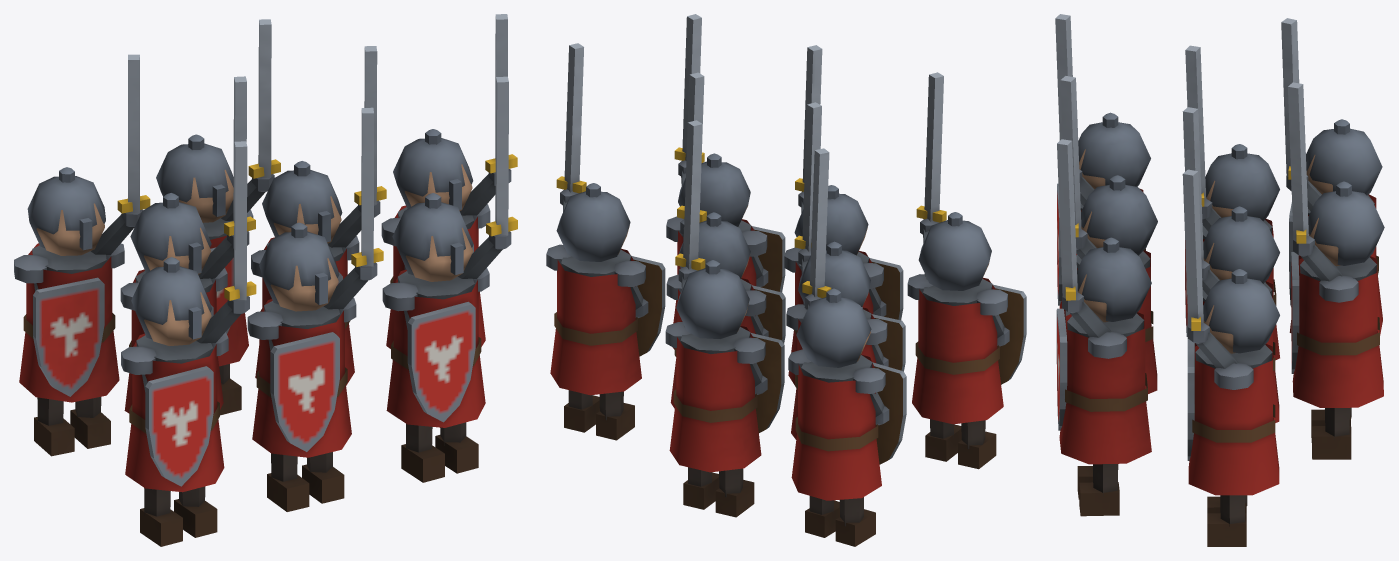
File: squad_dl3_red.glb
The picture shows the model from 3 angles, left to right: view 1: azimuth 30°, elevation 25°; view 2: azimuth 150°, elevation 25°; view 3: azimuth 270°, elevation 25°; orthographic projection. The views are drawn at different scales.
Parts seen in each view (by area): view 1: squad_dl3_red; view 2: squad_dl3_red; view 3: squad_dl3_red.
Part boxes in pixels (x1=…): squad_dl3_red: x1=14, y1=14, x2=517, y2=546; squad_dl3_red: x1=546, y1=14, x2=1026, y2=546; squad_dl3_red: x1=1055, y1=14, x2=1384, y2=546.
Bounding box in the file's own units: 0.6707 × 0.5703 × 0.4461.
Materials: 1 (1 with a texture image).
